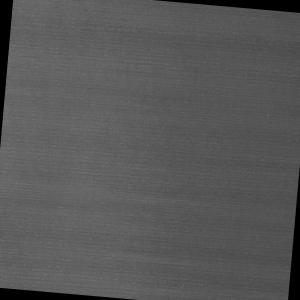Wrinkle: (89, 12, 300, 67)
